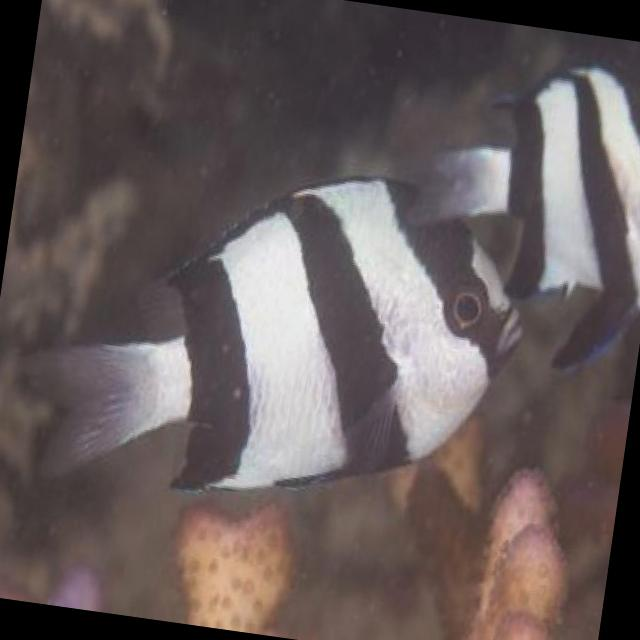Three_striped DasmselFish: (26, 128, 542, 531), (401, 46, 640, 379)
